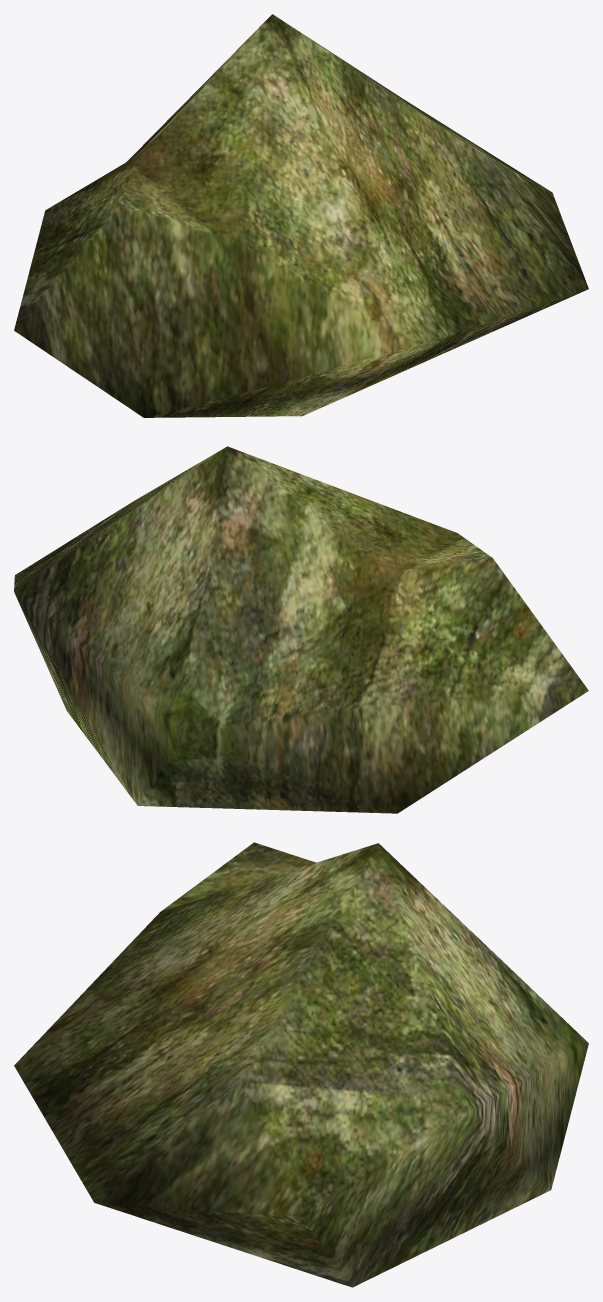
The model's file is rock_endr_mossyrock_m_a1_l3.fbx.
The picture shows the model from 3 angles, top to bottom: view 1: azimuth 30°, elevation 25°; view 2: azimuth 150°, elevation 25°; view 3: azimuth 270°, elevation 25°; orthographic projection. The views are drawn at different scales.
Visible parts, largest first — view 1: mesh_node; view 2: mesh_node; view 3: mesh_node.
Boxes of the visible parts, left/top/right/bottom form: mesh_node: left=14, top=14, right=588, bottom=417; mesh_node: left=14, top=446, right=588, bottom=813; mesh_node: left=14, top=842, right=588, bottom=1287.
Bounding box in the file's own units: 2.41 × 1.4 × 1.93.
1 material, 1 textured.
